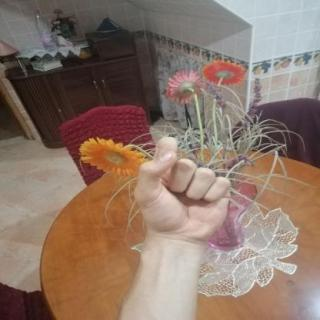FAA: (121, 130, 241, 249)
